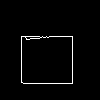I: (25, 25, 72, 44)
